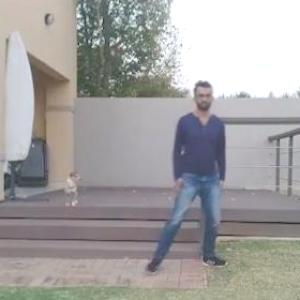follow: (167, 76, 228, 278)
